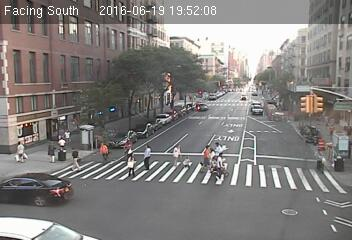neg: (315, 135, 329, 154), (337, 154, 349, 171), (325, 120, 335, 133), (199, 102, 209, 115), (304, 126, 313, 138), (250, 88, 258, 99)
pos: (197, 142, 215, 166), (66, 145, 84, 169), (10, 138, 28, 162), (138, 145, 155, 168), (168, 142, 185, 164), (96, 139, 112, 161), (44, 141, 60, 162), (123, 153, 139, 173), (214, 153, 229, 173), (211, 137, 224, 154), (121, 134, 133, 149), (207, 147, 218, 163), (62, 126, 73, 142), (55, 135, 66, 149)
